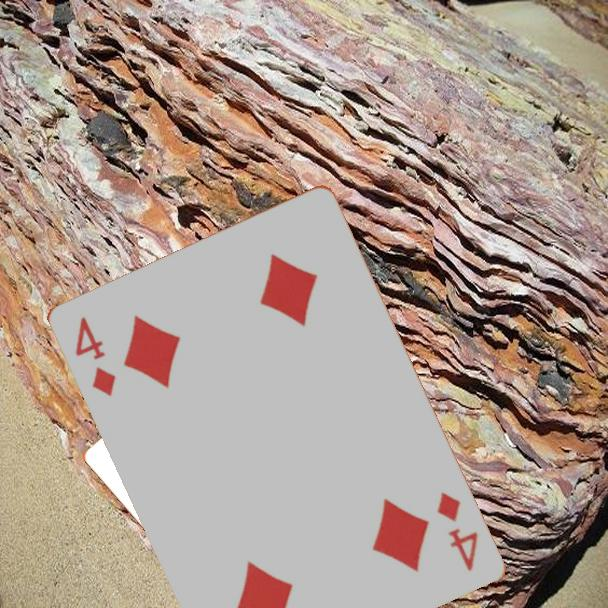d04: (70, 312, 118, 399), (433, 488, 480, 574)
